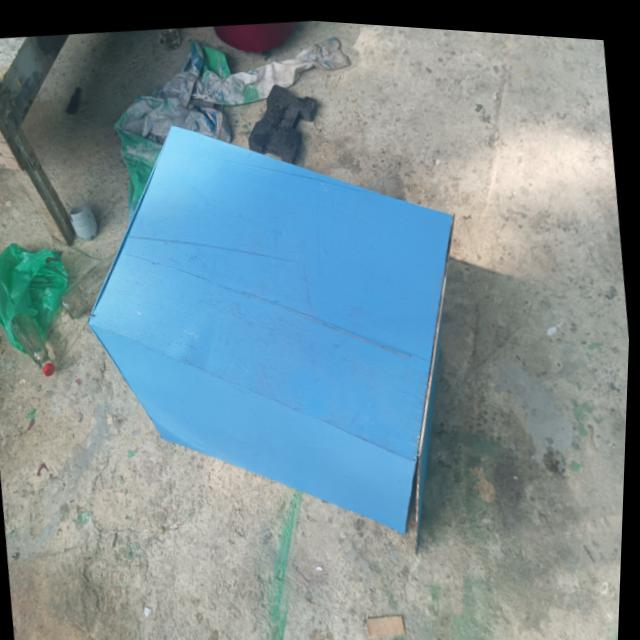blue_box: (57, 69, 506, 591)
